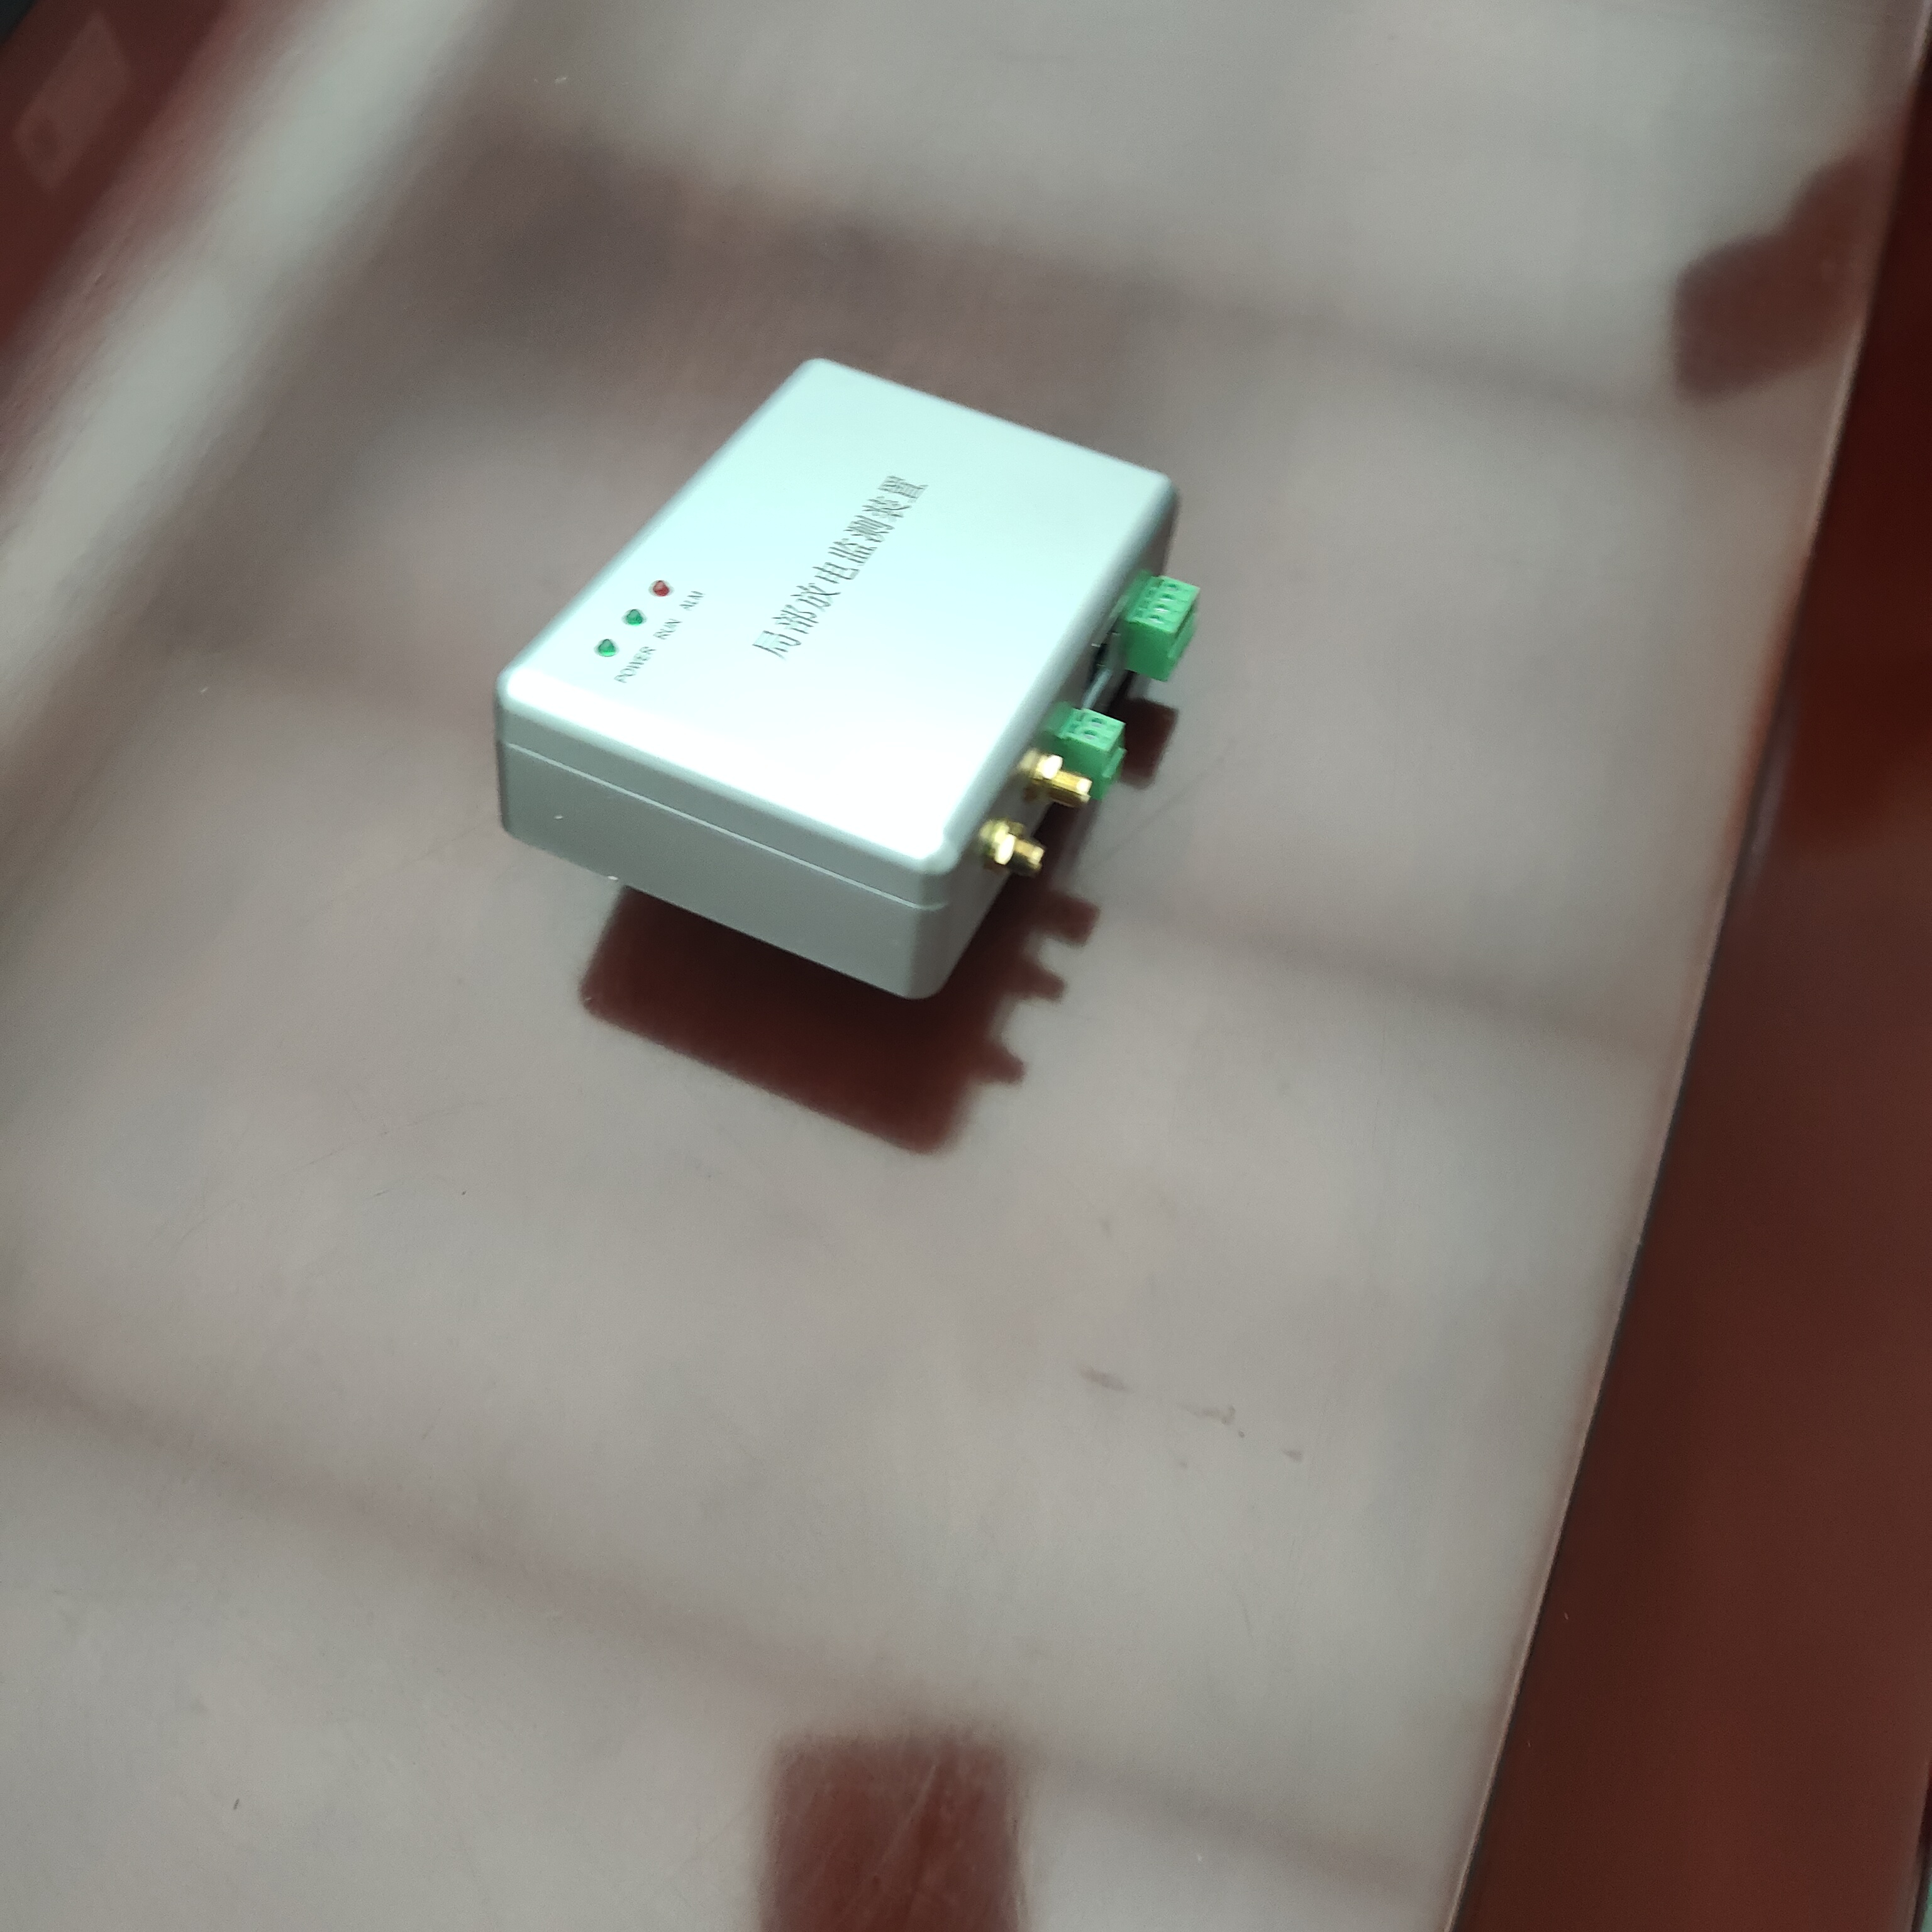jbfdjc: (479, 340, 1277, 1063)
